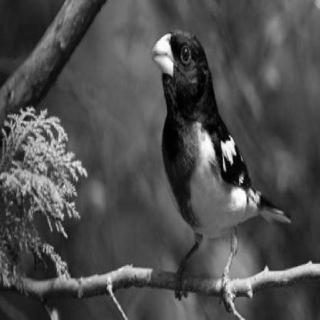other: (158, 116, 208, 233)
